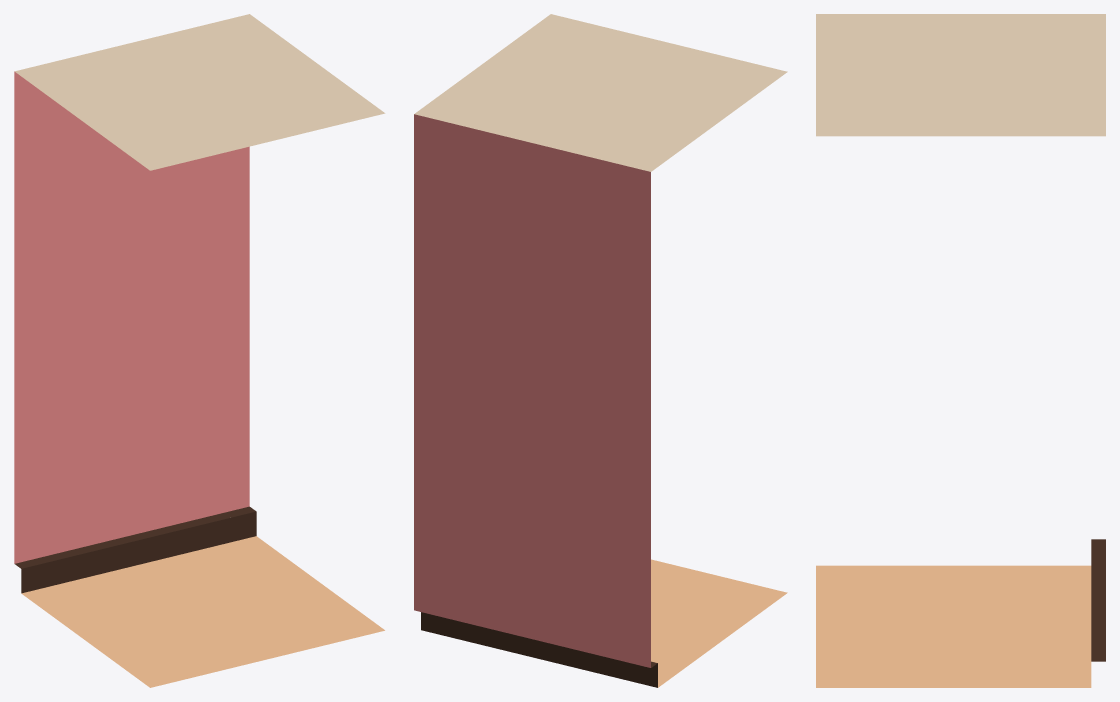
Rendered from Couloir_Mur_1x1.fbx.
The picture shows the model from 3 angles, left to right: view 1: azimuth 30°, elevation 25°; view 2: azimuth 150°, elevation 25°; view 3: azimuth 270°, elevation 25°; orthographic projection. The views are drawn at different scales.
Visible parts, largest first — view 1: Couloir_Mur_1x1; view 2: Couloir_Mur_1x1; view 3: Couloir_Mur_1x1.
Part boxes in pixels (x1,y1,x2,y2): Couloir_Mur_1x1: [14, 14, 385, 687]; Couloir_Mur_1x1: [414, 14, 787, 687]; Couloir_Mur_1x1: [816, 14, 1105, 687].
Size of the model in its own units: 1 by 2.1 by 1.
